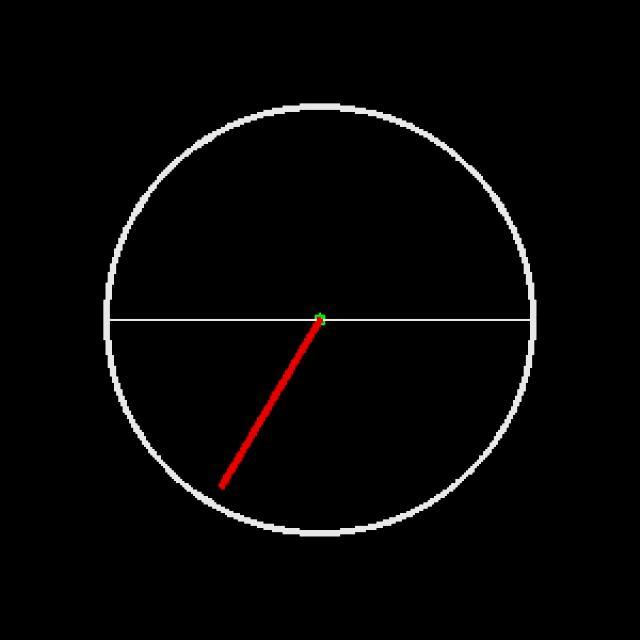Needle_Tip: (202, 457, 243, 503)
Needle_base: (283, 280, 356, 342)
